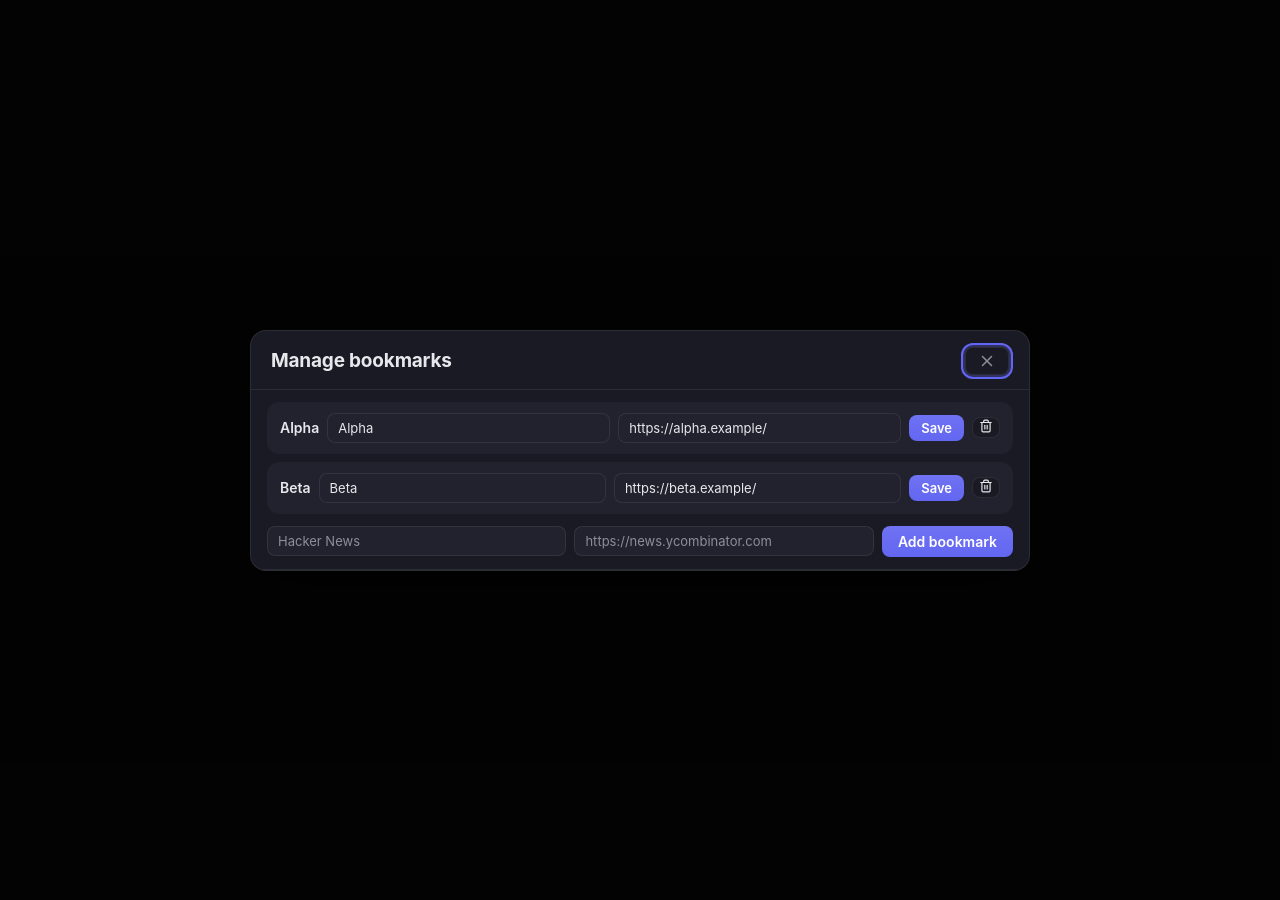
Test: FavoritesManager › shows an inline error and does not add when the name is blank
Note: Fill only the URL — leave the name empty.
Type "https://gamma.example/" into the field named "new bookmark url" at (724, 541), box [574,526,874,556]
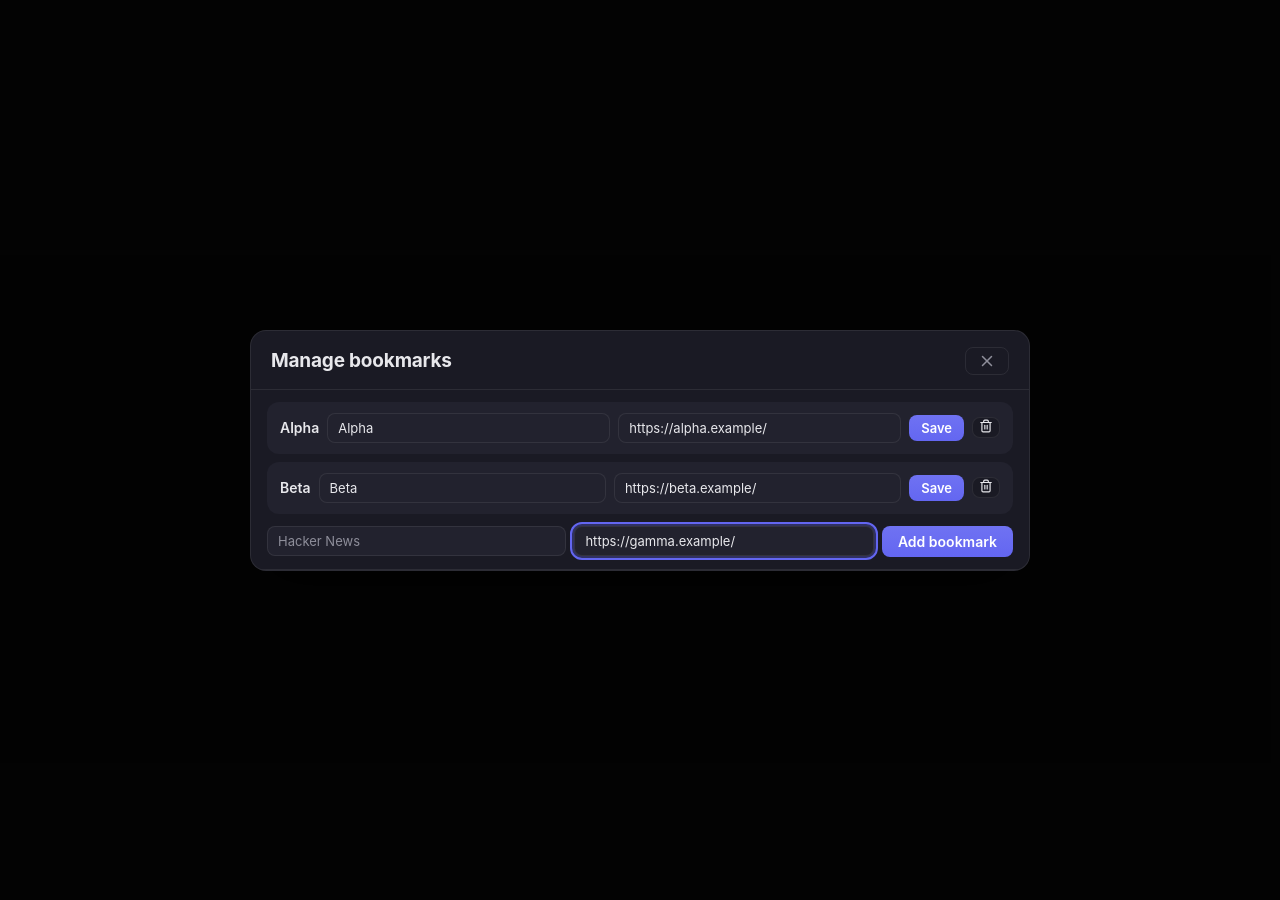
Click the button "Add bookmark" at (947, 541), box [882,526,1013,556]
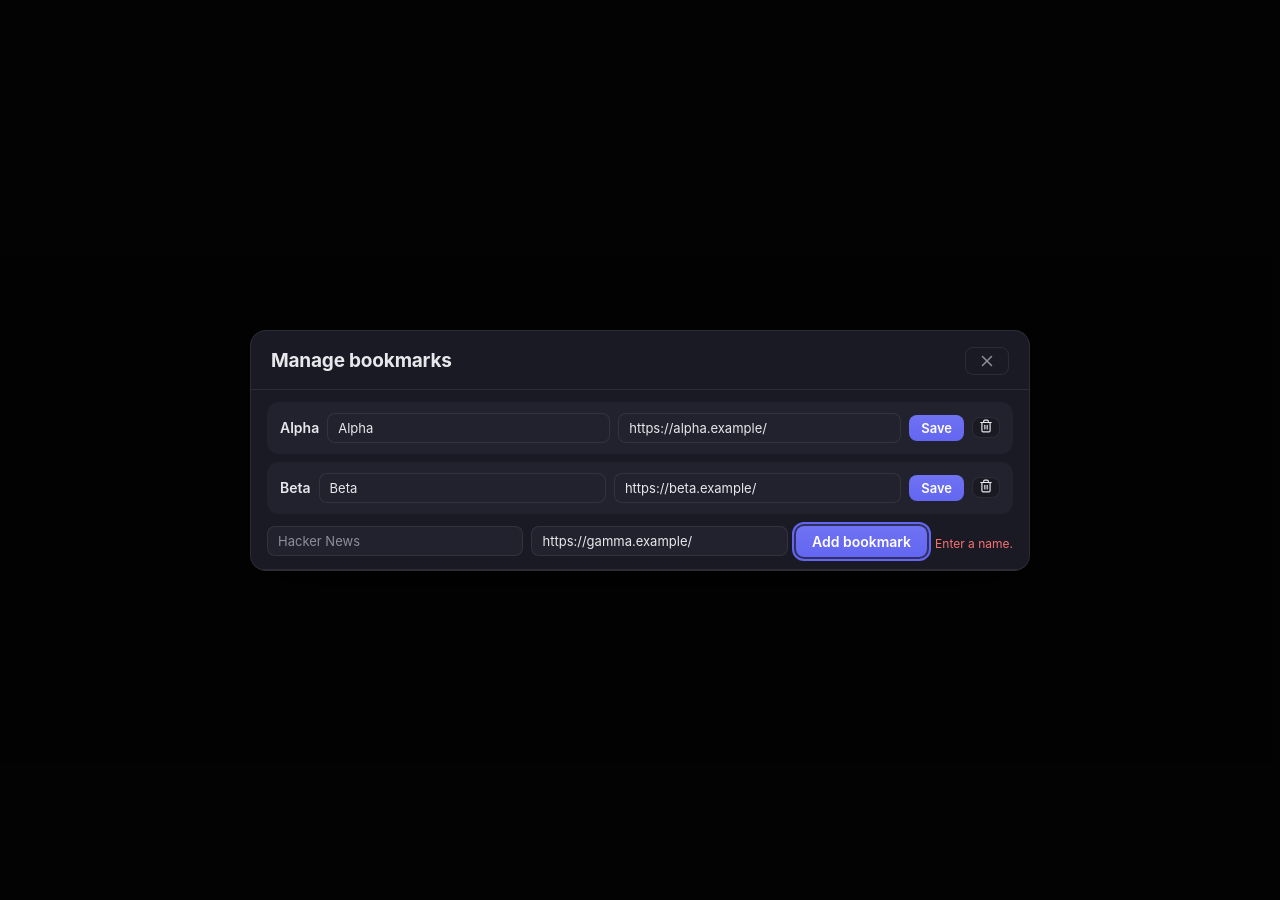
Check: the message shows "Enter a name", box [935,536,1013,550]
